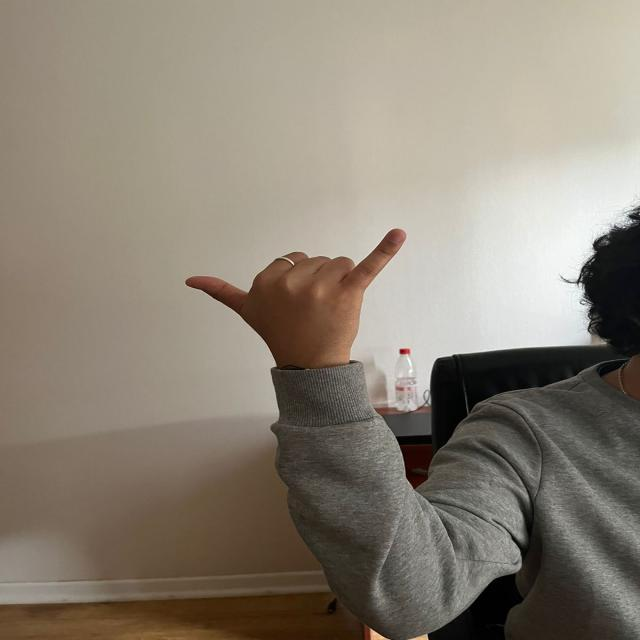Y: (176, 221, 412, 368)
